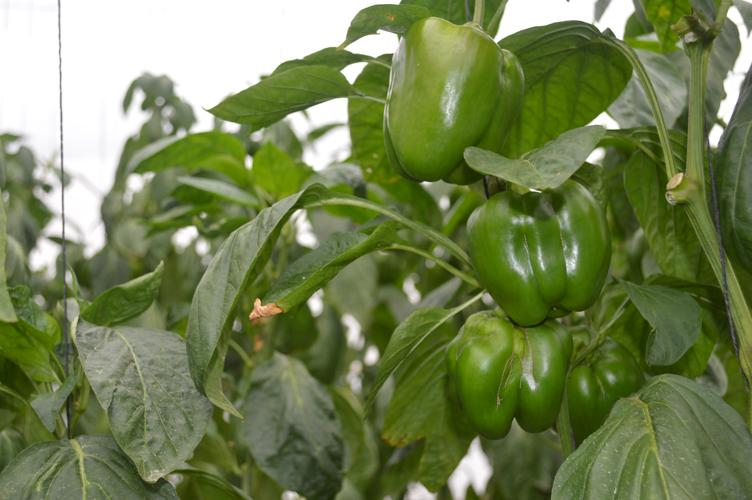BellPepper: (384, 18, 518, 177), (466, 178, 608, 319), (441, 316, 570, 432), (569, 341, 641, 438)
